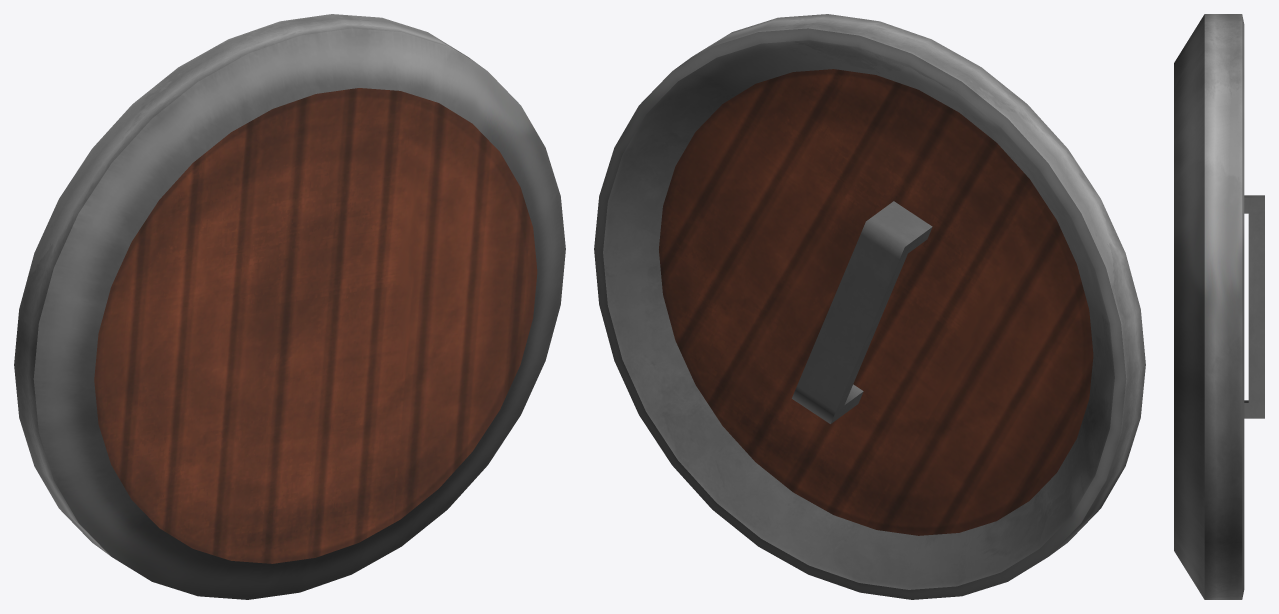
File: Medieval Shield.fbx
The picture shows the model from 3 angles, left to right: view 1: azimuth 30°, elevation 25°; view 2: azimuth 150°, elevation 25°; view 3: azimuth 270°, elevation 25°; orthographic projection. The views are drawn at different scales.
Parts seen in each view (by area): view 1: Medieval_Shield; view 2: Medieval_Shield; view 3: Medieval_Shield.
Part boxes in pixels (left/top/right/bottom): Medieval_Shield: left=14, top=14, right=565, bottom=599; Medieval_Shield: left=594, top=14, right=1145, bottom=599; Medieval_Shield: left=1174, top=14, right=1264, bottom=599.
Bounding box in the file's own units: 3.69 × 3.69 × 0.5711.
